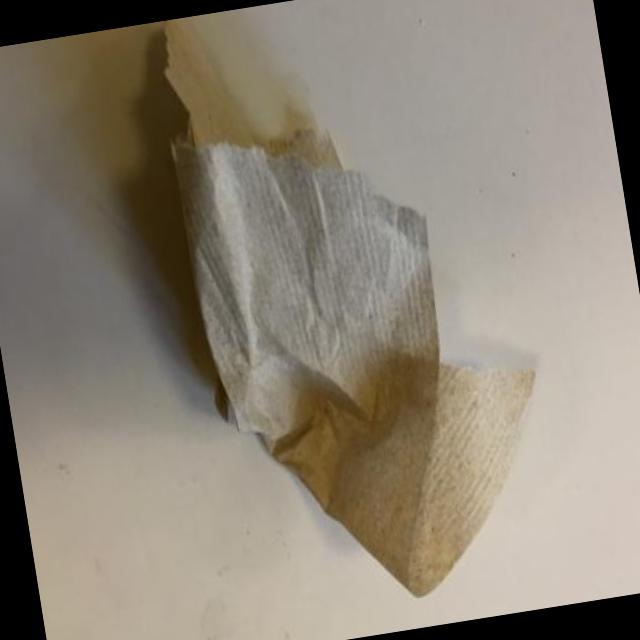giay: (165, 21, 535, 594)
